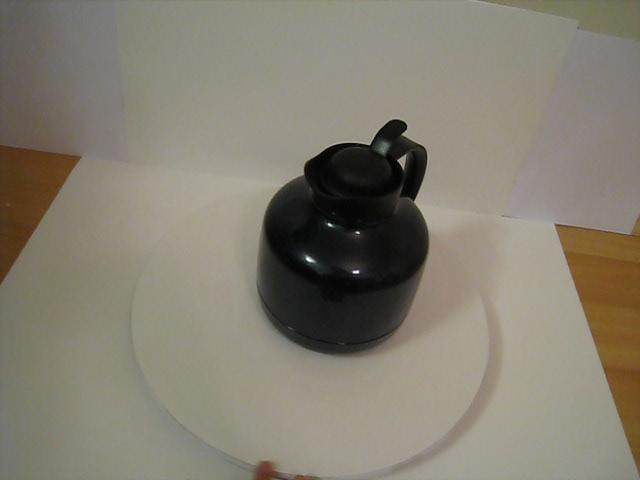pitcher: (250, 110, 438, 372)
